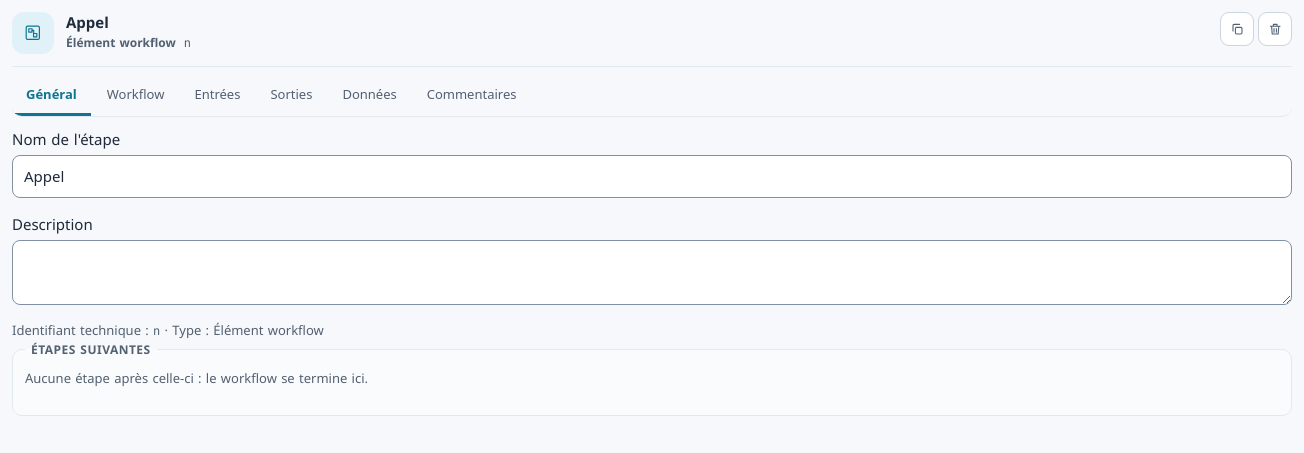
it: version du workflow appelé — étape subworkflow › sans version épinglée : le dit clairement et ne choisit rien à la place de la personne
The width and height of the screenshot is (1304, 453).
Step 1. Click the tab "Workflow" → (136, 96), box x1=93 y1=77 x2=178 y2=116
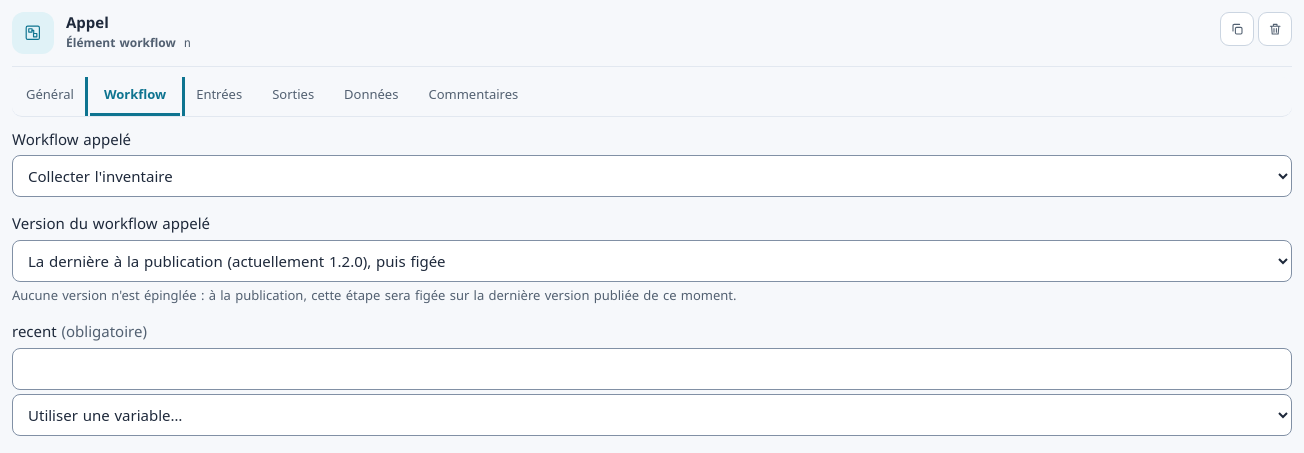
Expected: the dropdown labelled "Version du workflow appelé" shows "La dernière à la publication (actuellement 1.2.0), puis figée", x1=12 y1=240 x2=1292 y2=282
Expected: the text "Aucune version n'est épinglée" is shown, x1=12 y1=286 x2=737 y2=304
